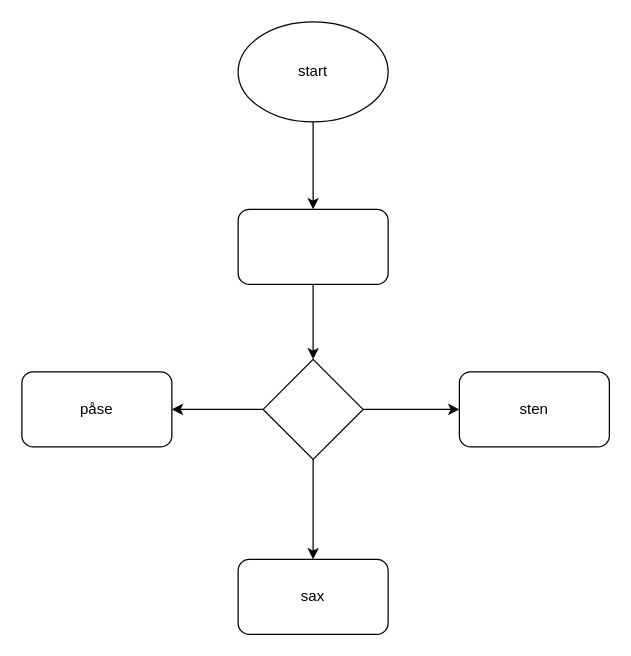
Some shapes in this 631 by 656 pixel diagram are drawn without their labels. The centre of each missing label's shape, as x and y in pixels:
if: the point at 312,408
slump process: the point at 312,246
